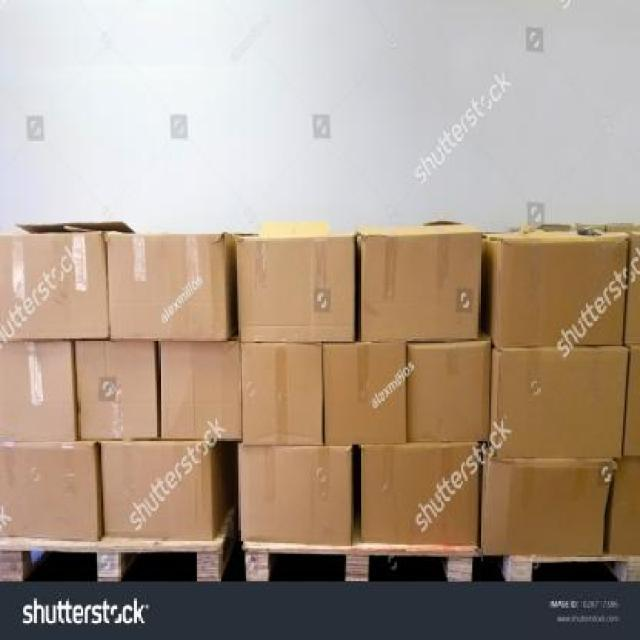BoxFace: (494, 348, 630, 458), (493, 237, 627, 346), (478, 457, 617, 555), (107, 231, 227, 340), (361, 231, 481, 340), (239, 238, 356, 344), (362, 444, 480, 544), (0, 233, 108, 339), (239, 444, 352, 544), (99, 442, 213, 540), (0, 444, 97, 542), (240, 342, 322, 444), (408, 340, 490, 442), (324, 342, 404, 446), (161, 338, 241, 440), (74, 340, 158, 437), (0, 341, 75, 441)
